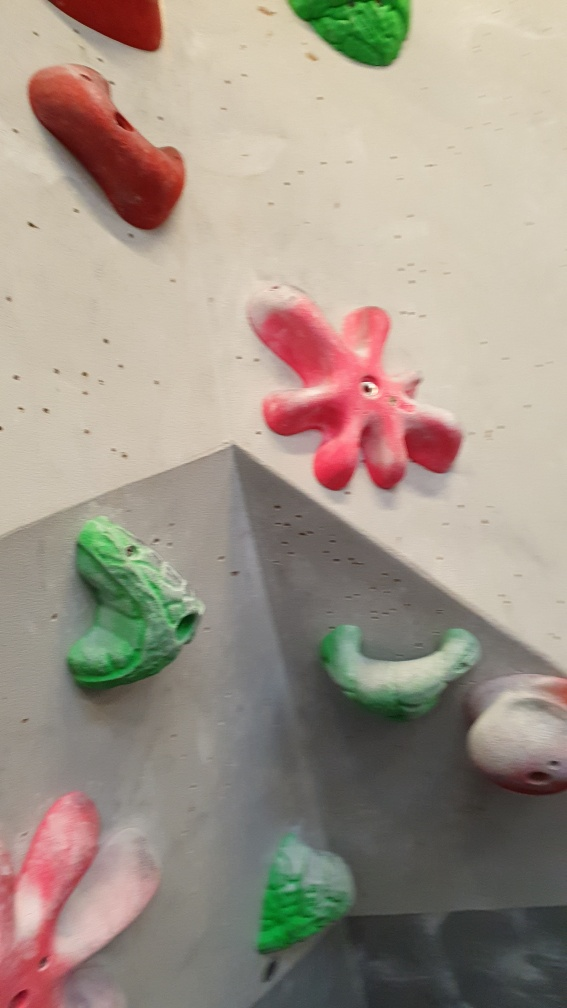Jug: (317, 618, 479, 727), (255, 826, 360, 960)
Octopus Pinch: (247, 260, 468, 500), (2, 787, 170, 1007)
Sloper: (458, 680, 567, 805)
